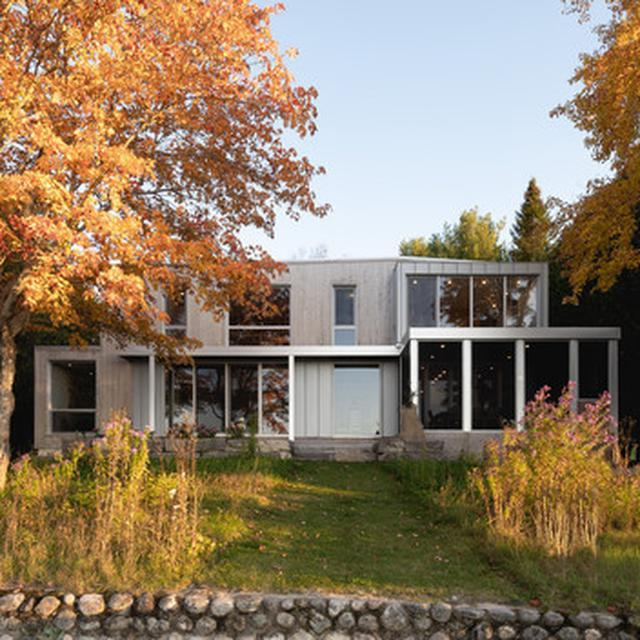building: (34, 256, 618, 472)
